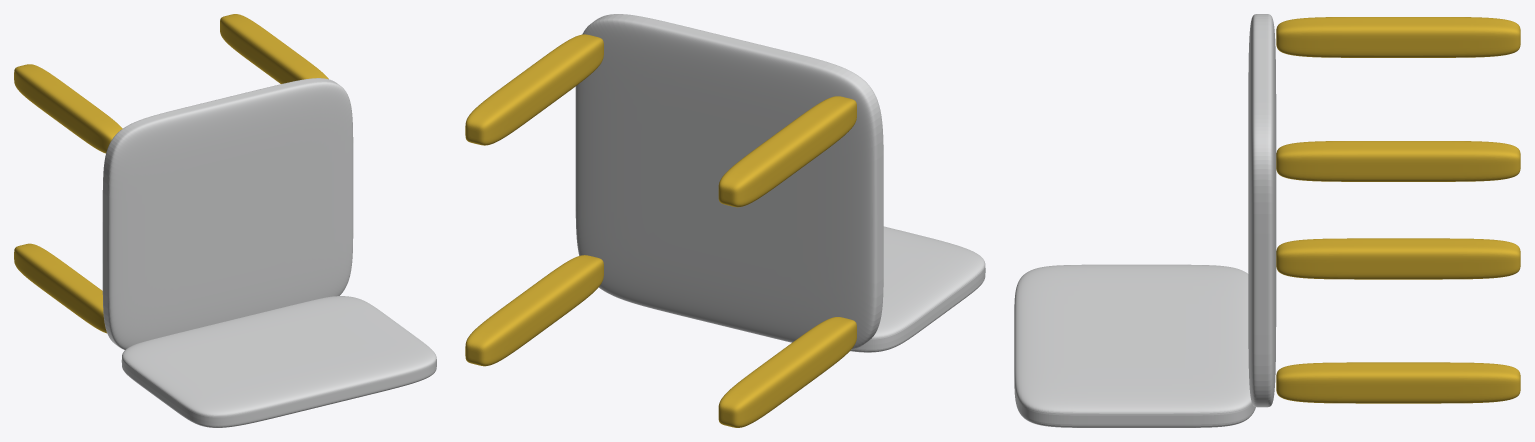
The model's file is 27_A_comfy_chair_with_cushions_sq.glb.
3 views of the same model, side by side, from view 1: azimuth 30°, elevation 25°; view 2: azimuth 150°, elevation 25°; view 3: azimuth 270°, elevation 25° (orthographic). The views are drawn at different scales.
Visible parts, largest first — view 1: superquadric_0, superquadric_1, superquadric_2, superquadric_4, superquadric_3; view 2: superquadric_0, superquadric_1, superquadric_2, superquadric_3, superquadric_5, superquadric_4; view 3: superquadric_1, superquadric_0, superquadric_4, superquadric_5, superquadric_2, superquadric_3.
Boxes of the visible parts, bbox=[...] form: superquadric_0: bbox=[102, 78, 353, 349]; superquadric_1: bbox=[121, 296, 436, 427]; superquadric_2: bbox=[14, 64, 122, 153]; superquadric_4: bbox=[14, 243, 106, 333]; superquadric_3: bbox=[220, 14, 328, 83]; superquadric_0: bbox=[575, 14, 883, 349]; superquadric_1: bbox=[850, 226, 985, 352]; superquadric_2: bbox=[718, 96, 856, 207]; superquadric_3: bbox=[465, 34, 603, 145]; superquadric_5: bbox=[465, 255, 603, 366]; superquadric_4: bbox=[718, 317, 856, 427]; superquadric_1: bbox=[1014, 264, 1255, 427]; superquadric_0: bbox=[1248, 14, 1276, 407]; superquadric_4: bbox=[1276, 238, 1520, 279]; superquadric_5: bbox=[1276, 362, 1520, 403]; superquadric_2: bbox=[1276, 17, 1520, 57]; superquadric_3: bbox=[1276, 141, 1520, 181].
Bounding box in the file's own units: 0.6908 × 0.6331 × 1.
